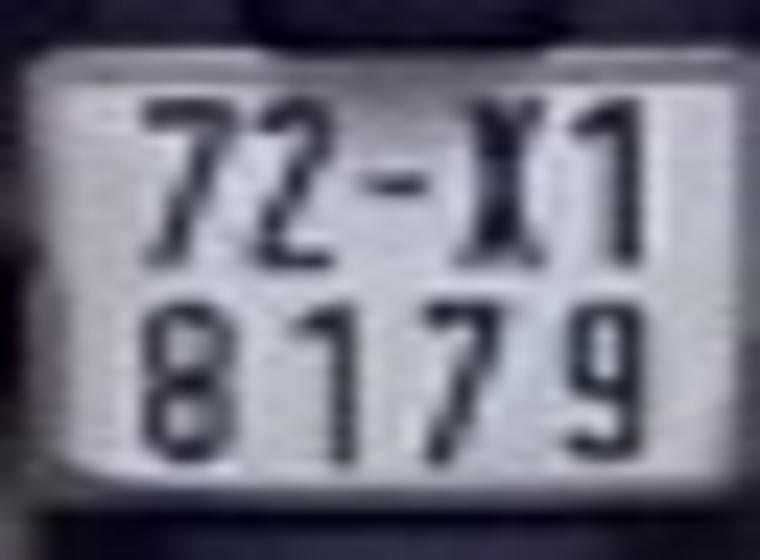-: (358, 165, 430, 197)
1: (287, 297, 366, 468), (575, 90, 649, 265)
2: (250, 91, 329, 271)
7: (135, 95, 227, 279), (419, 302, 501, 471)
8: (142, 300, 233, 465)
9: (563, 302, 646, 461)
X: (452, 93, 545, 272)
